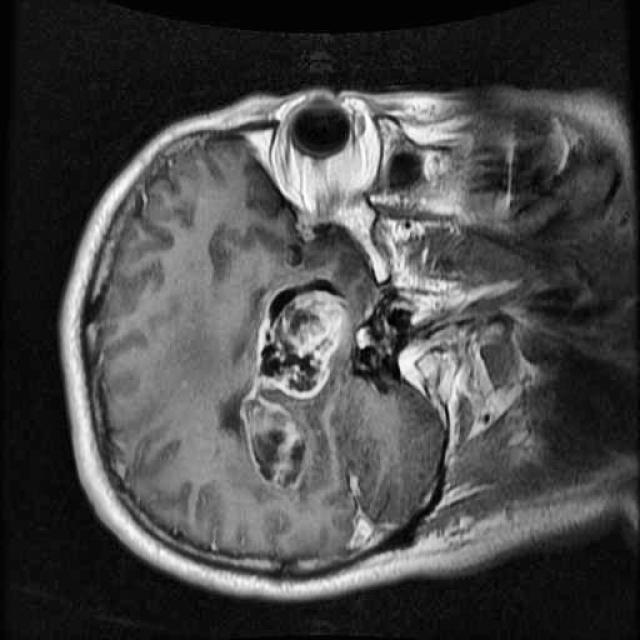Tumor: (210, 253, 370, 505)
